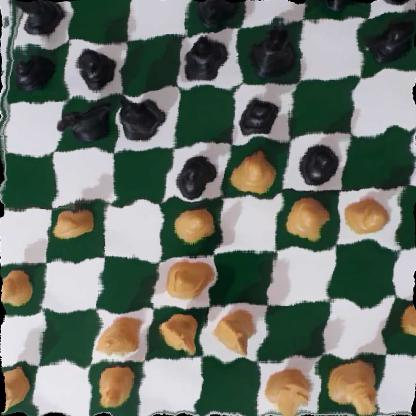black-bishop: (243, 25, 303, 81), (182, 30, 237, 84)
black-king: (373, 0, 416, 13)
black-knight: (53, 99, 116, 145), (114, 87, 167, 141)
black-pawn: (237, 92, 286, 141), (11, 47, 59, 94), (371, 18, 416, 66), (294, 139, 339, 186), (77, 39, 120, 88), (172, 152, 219, 195)
black-queen: (189, 0, 244, 26)
black-rook: (8, 0, 71, 41), (313, 0, 374, 15)
white-bishop: (92, 365, 135, 413), (163, 258, 211, 298)
white-king: (321, 356, 387, 415)
white-knight: (211, 308, 259, 360), (158, 315, 203, 354)
white-pawn: (340, 192, 390, 245), (285, 192, 333, 239), (168, 201, 216, 246), (229, 152, 280, 192), (50, 200, 95, 242), (0, 266, 38, 304), (396, 300, 416, 344)
white-queen: (94, 309, 142, 360)
white-rook: (259, 366, 317, 415), (0, 369, 34, 414)
